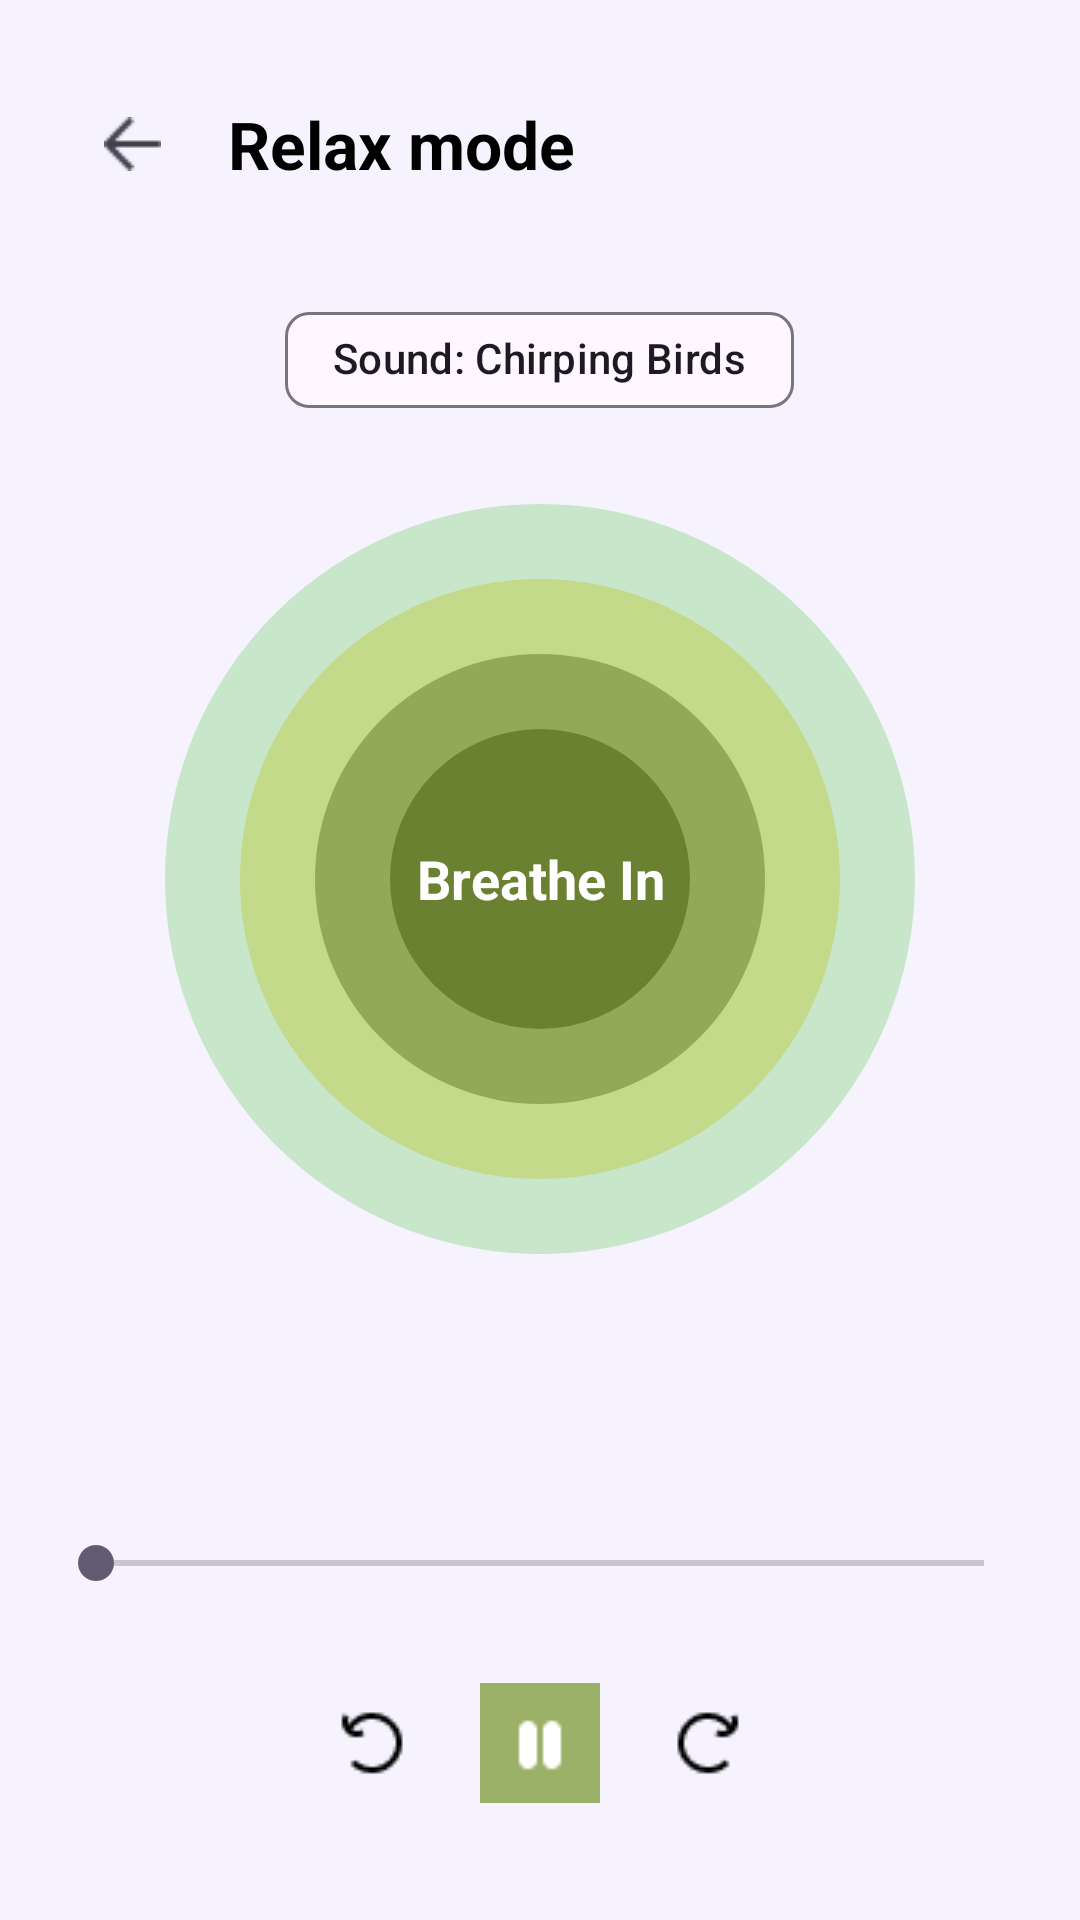

Named icons in this screenshot (1080px×1920px) and their bounding boxes, (x1, y1, x2, y2):
pause: (480, 1683, 600, 1803)
repeat left: (341, 1712, 403, 1774)
repeat right: (677, 1712, 739, 1774)
